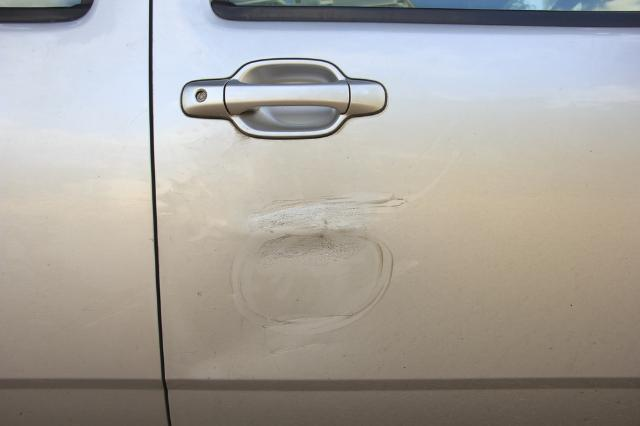dent: (185, 150, 424, 381)
